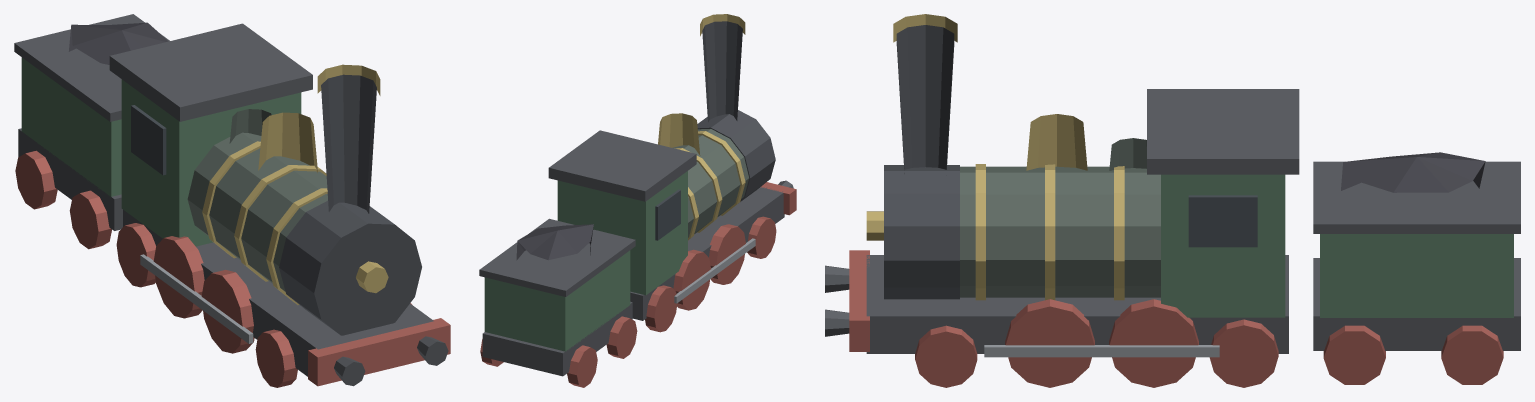
Rendered from rail_locomotive.glb.
The picture shows the model from 3 angles, left to right: view 1: azimuth 30°, elevation 25°; view 2: azimuth 150°, elevation 25°; view 3: azimuth 270°, elevation 25°; orthographic projection. The views are drawn at different scales.
Bounding box in the file's own units: 0.526 × 1.03 × 2.01.
